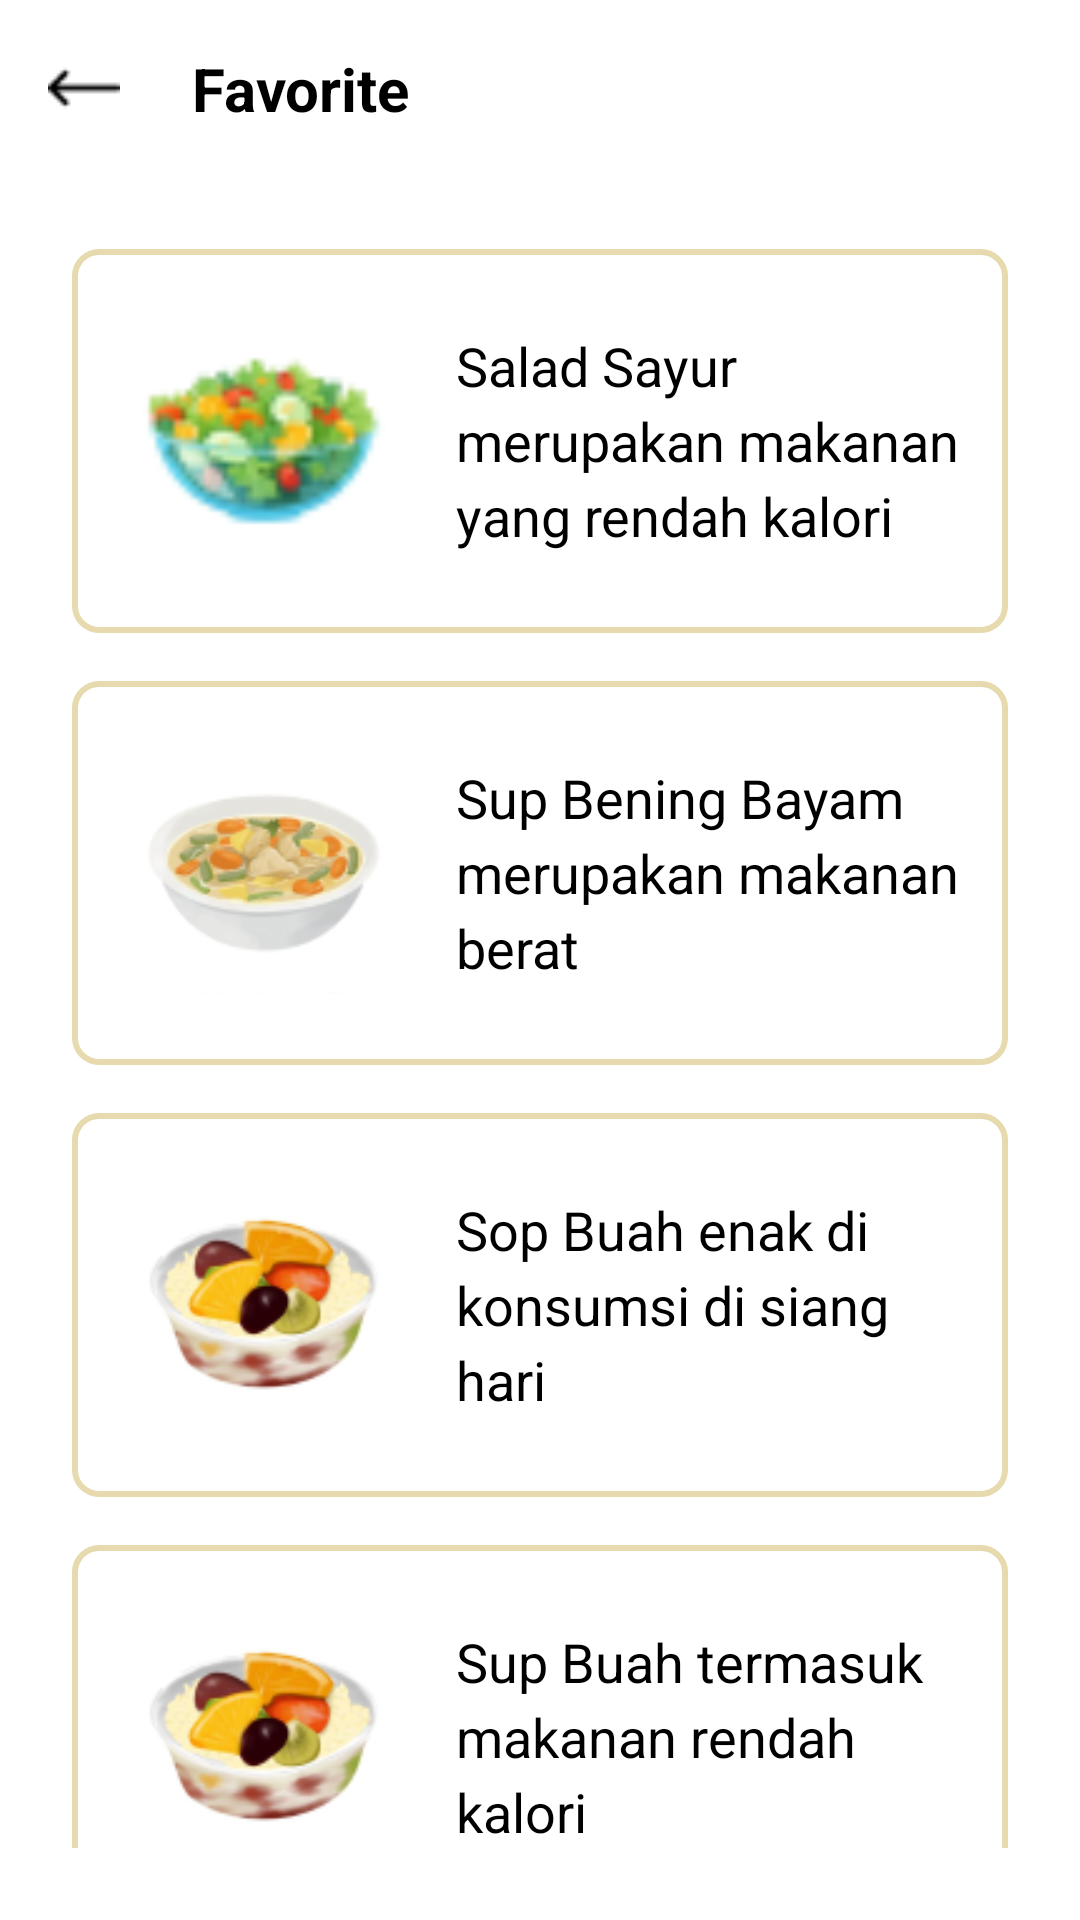

Screen size 1080×1920. Icon name, then its center in pixels as point (x, y):
Back Button: point (84, 88)
fruit soup: point (265, 1304), point (265, 1736)
soup: point (269, 873)
